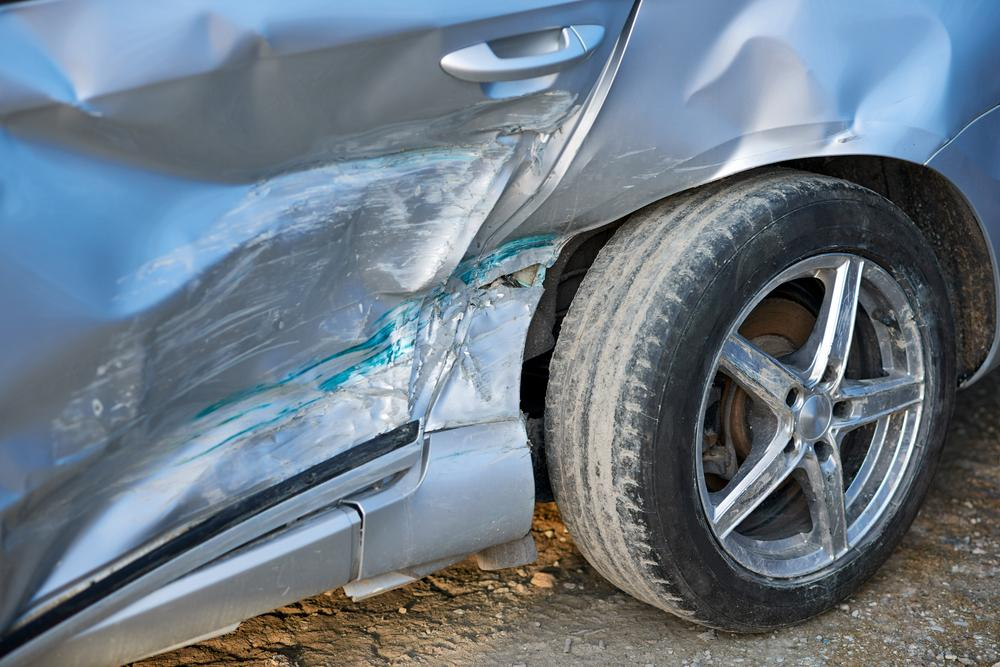crack: (480, 260, 552, 289)
dent: (0, 0, 562, 631), (635, 0, 953, 189)
